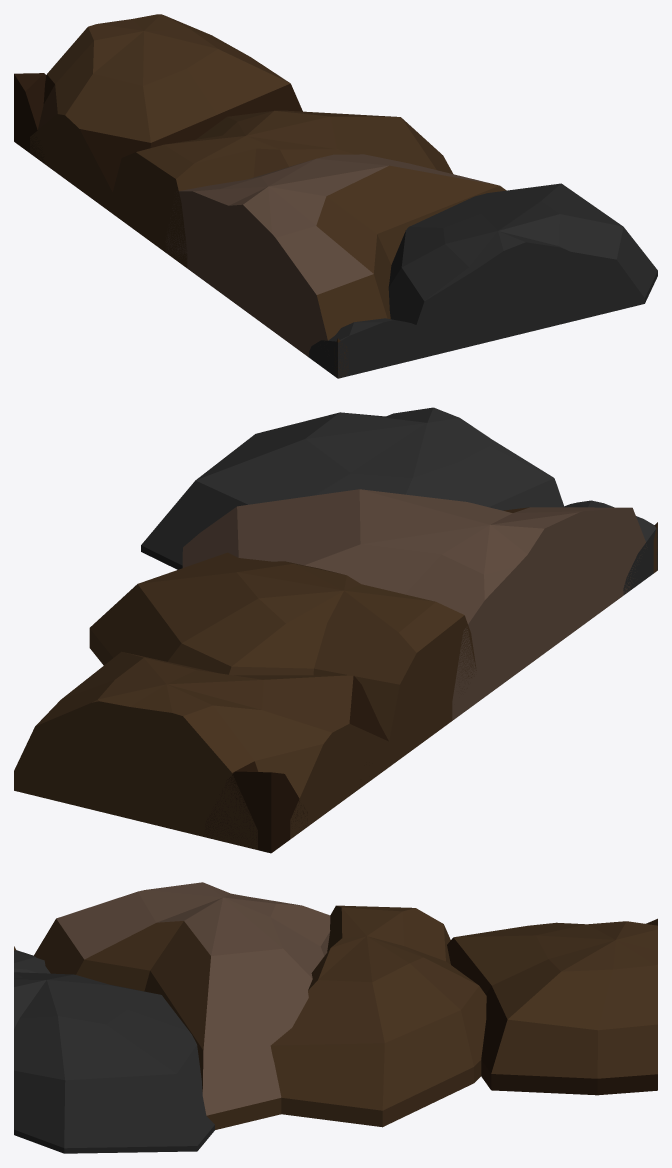
The model's file is newshr-203.glb.
3 renders of one model, top to bottom at view 1: azimuth 30°, elevation 25°; view 2: azimuth 150°, elevation 25°; view 3: azimuth 270°, elevation 25°, orthographic. The views are drawn at different scales.
Parts seen in each view (by area): view 1: newshr-203; view 2: newshr-203; view 3: newshr-203.
Boxes of the visible parts, <box> form: newshr-203: <box>14,14,657,378</box>; newshr-203: <box>14,407,657,853</box>; newshr-203: <box>14,882,657,1153</box>.
Size of the model in its own units: 1.44 by 0.4235 by 2.33.
